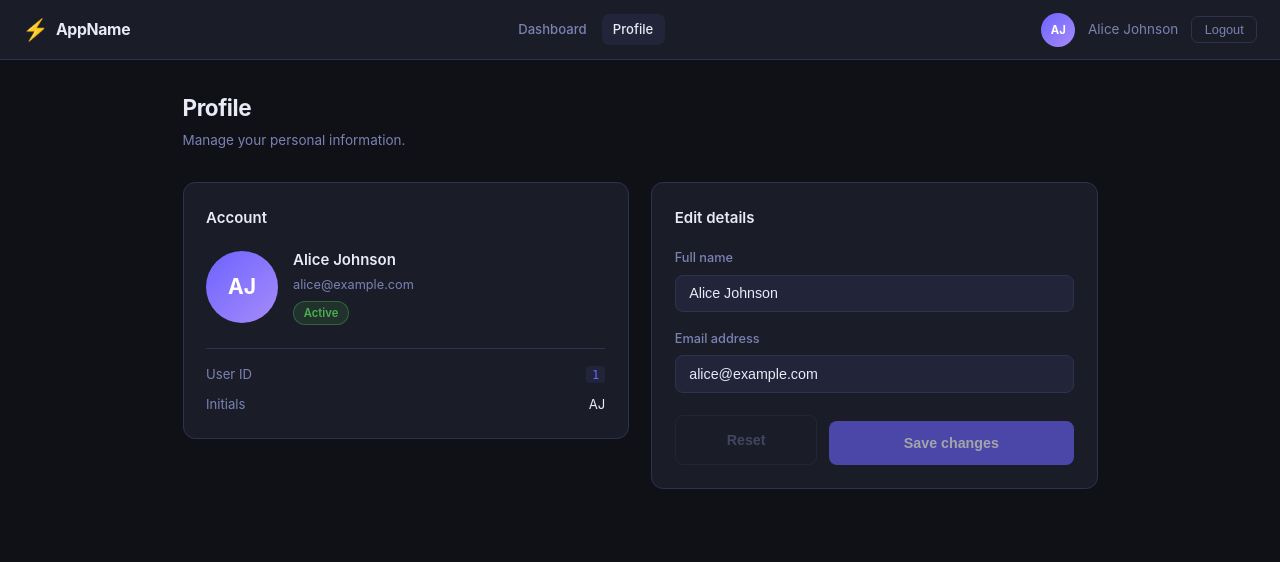
Test: ProfilePage — submission › shows a generic message for unexpected errors
Replace the text in the field labelled "Full name" with "Alice Smith": (874, 293) [675,275,1074,312]
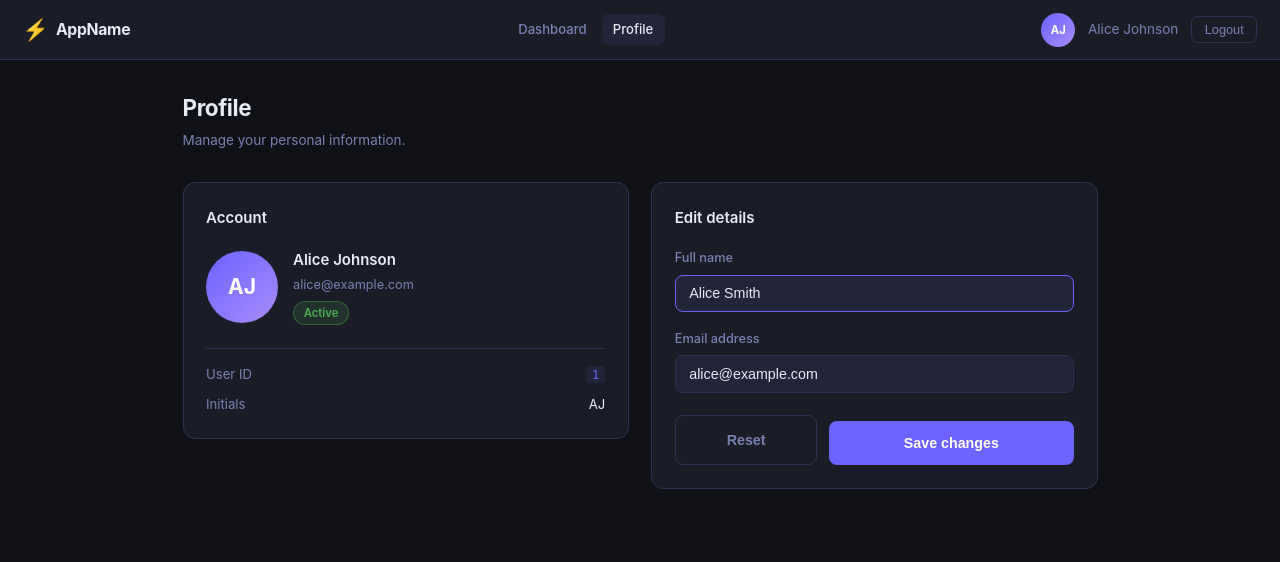
Click the button "Save changes": (951, 443) [829,421,1074,465]
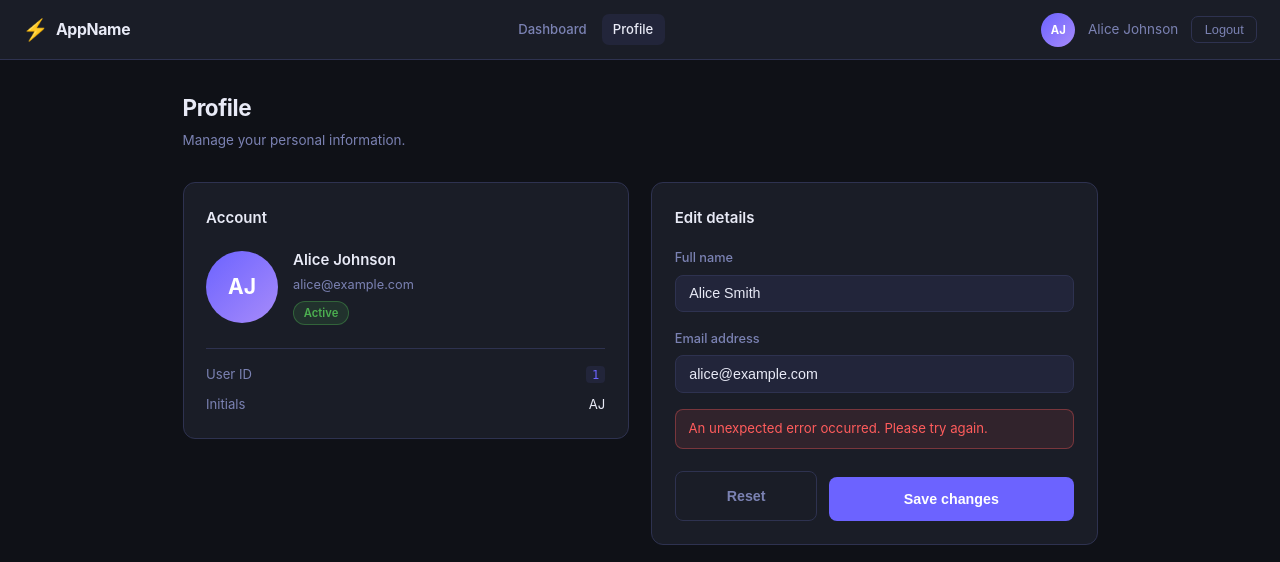
Check: the message shows "unexpected error", box [688,420,988,436]
